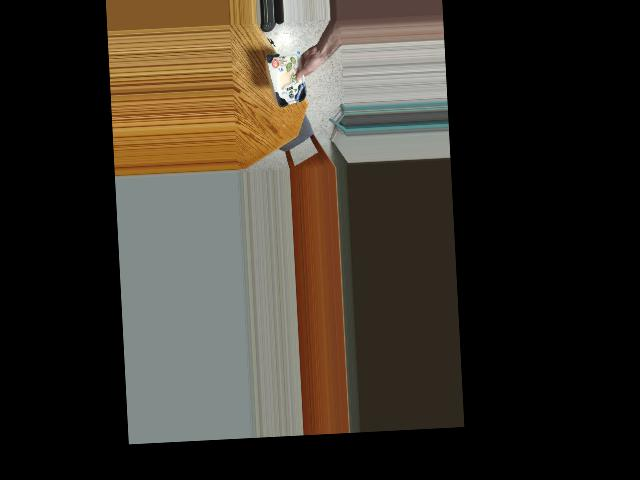cheese: (265, 51, 308, 107)
